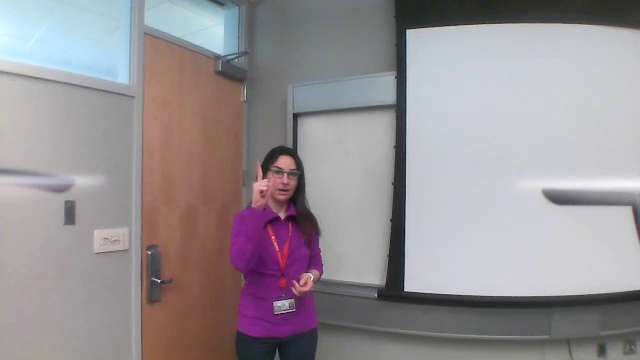up: (248, 157, 271, 208)
